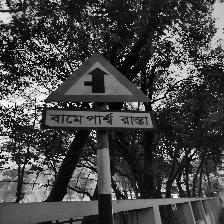Side-road-left: (42, 53, 156, 133)
